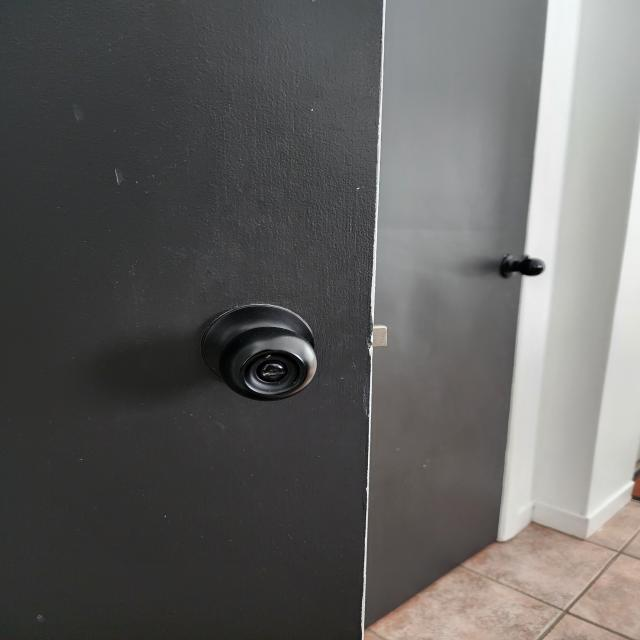door-knob: (197, 304, 318, 403)
